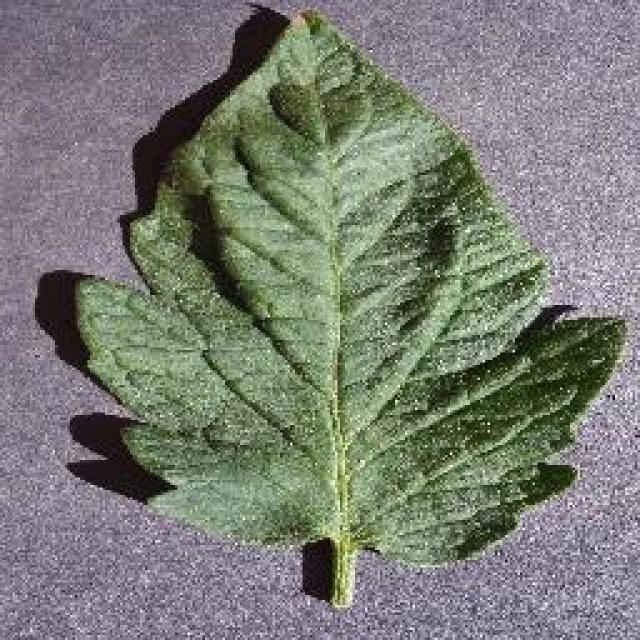Tomato_Healthy: (61, 16, 624, 582)
